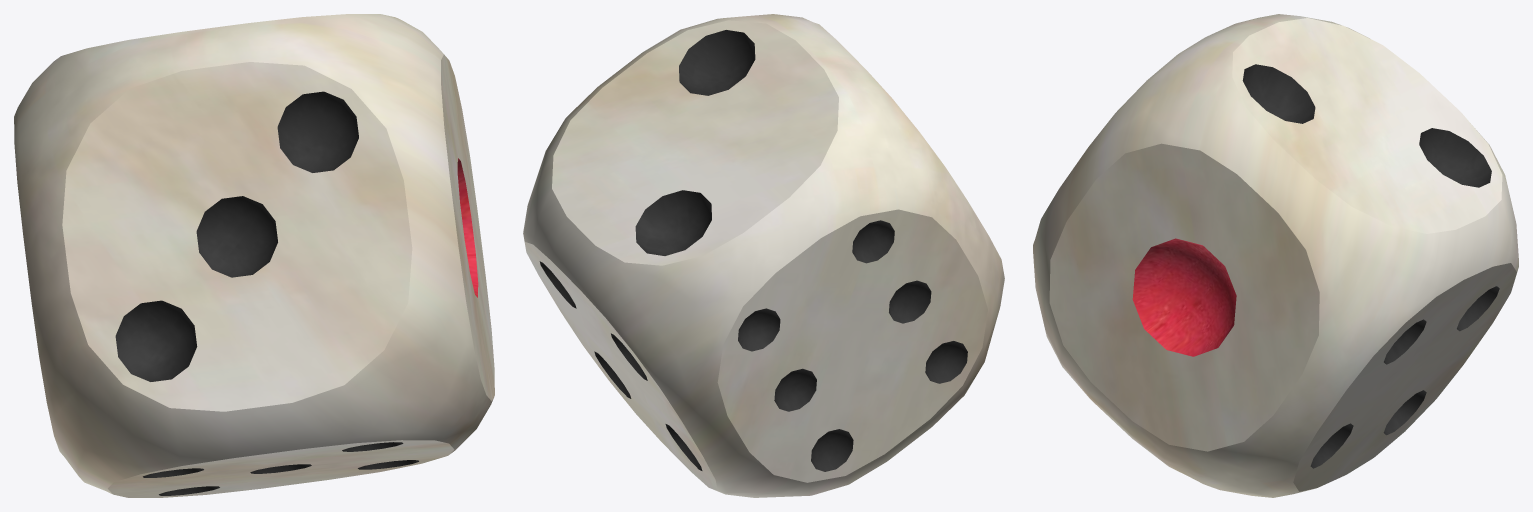
File: Dice006.fbx
3 views of the same model, side by side, from view 1: azimuth 30°, elevation 25°; view 2: azimuth 150°, elevation 25°; view 3: azimuth 270°, elevation 25° (orthographic). The views are drawn at different scales.
Visible parts, largest first — view 1: Dice006; view 2: Dice006; view 3: Dice006.
Part boxes in pixels (bbox=[...]): Dice006: bbox=[14, 14, 494, 497]; Dice006: bbox=[523, 14, 1004, 497]; Dice006: bbox=[1033, 14, 1518, 497].
Size of the model in its own units: 3.87 by 3.87 by 3.99.
Materials: 1 (1 with a texture image).
